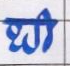i_matra: (39, 8, 52, 50)
